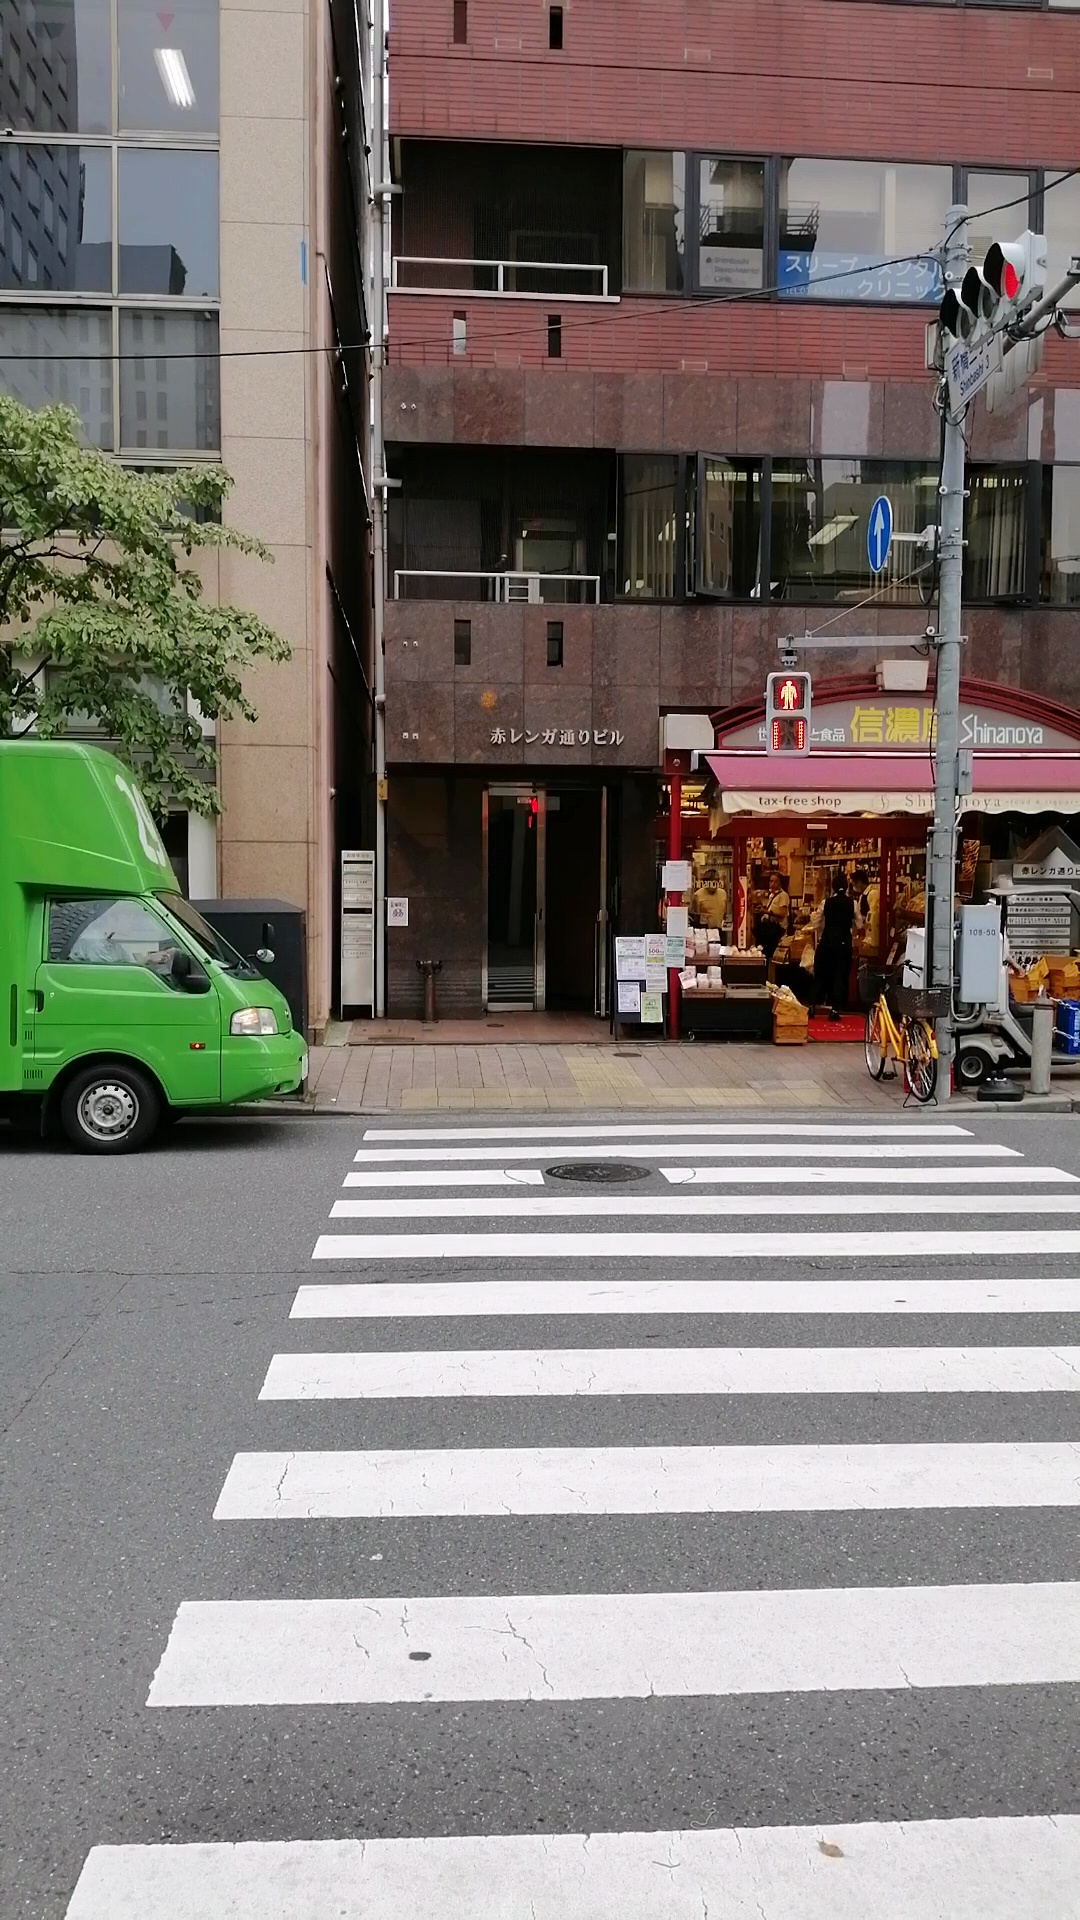red: (765, 670, 812, 757)
